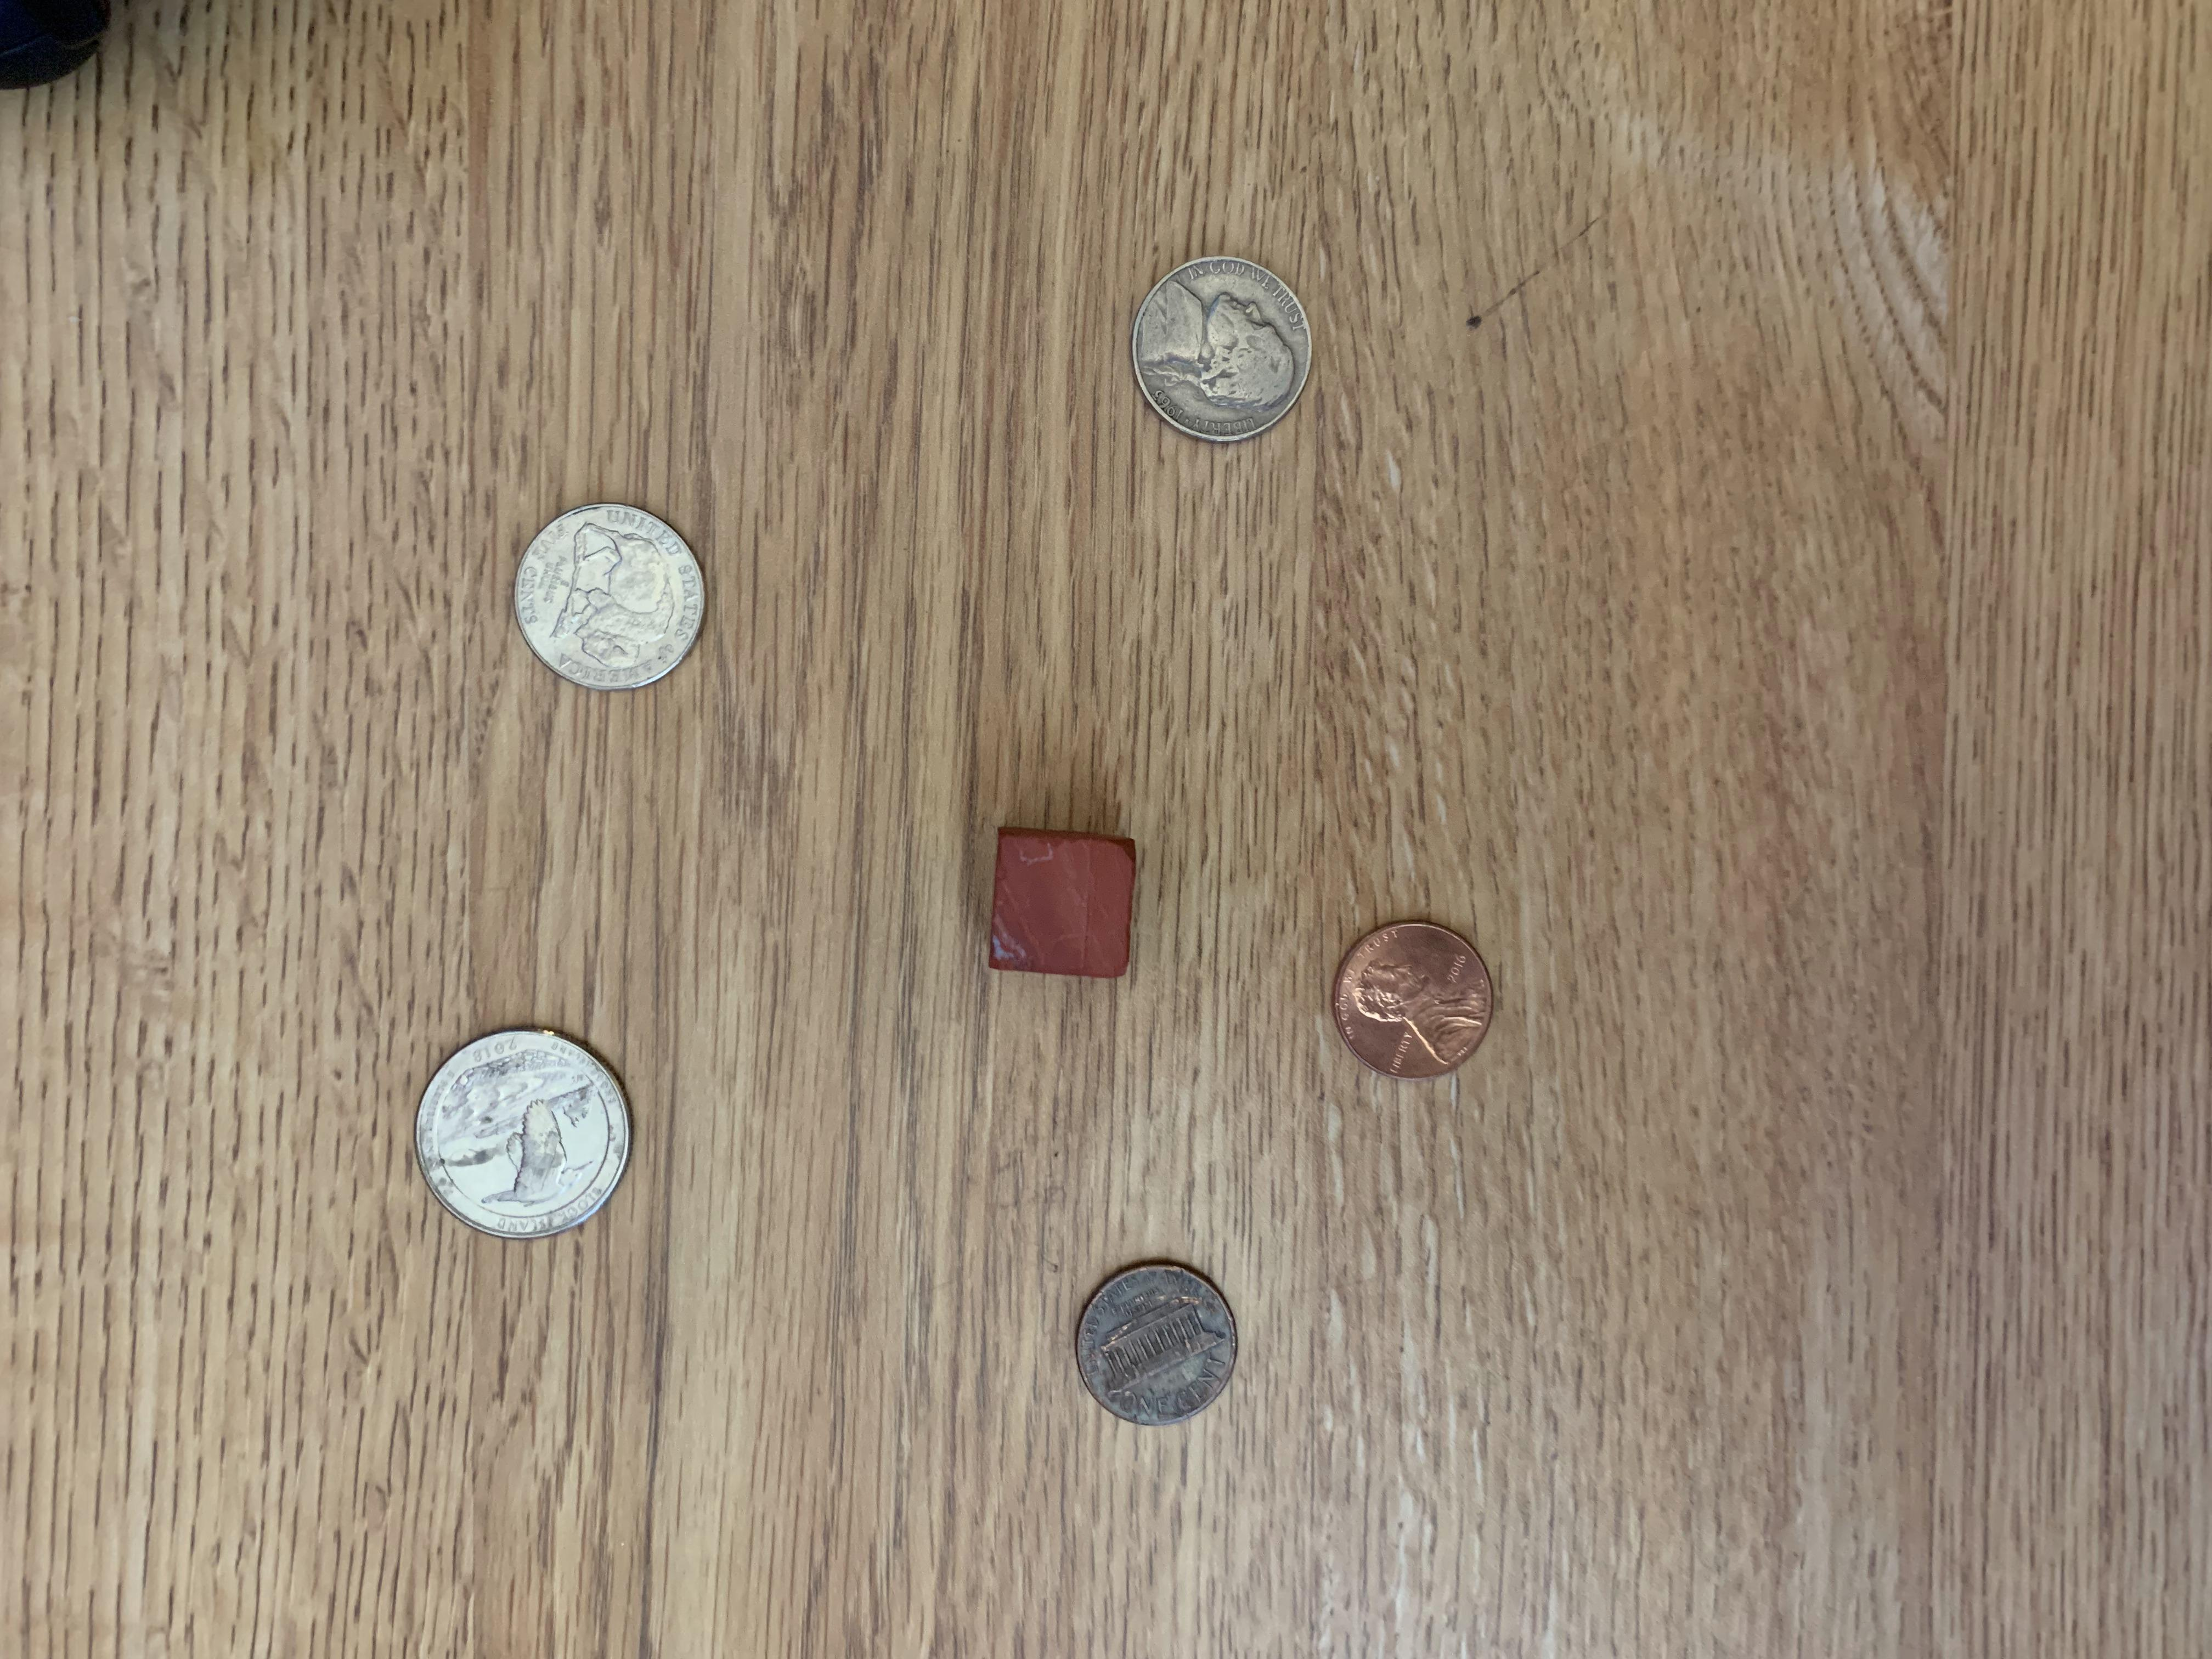Nickel: (503, 495, 707, 694), (1120, 254, 1325, 448)
Penny: (1073, 1255, 1249, 1434), (1327, 915, 1498, 1091)
Quarter: (401, 1023, 634, 1246)
